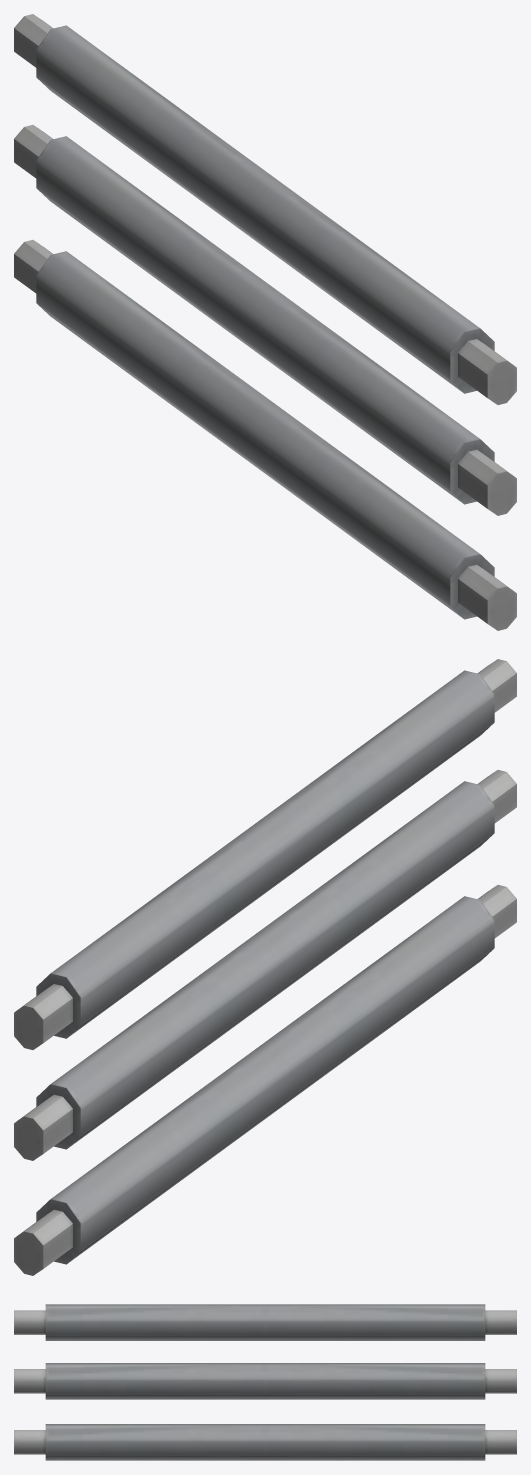
The model's file is Part - Fence 05-CBk5ll14.glb.
The picture shows the model from 3 angles, top to bottom: view 1: azimuth 30°, elevation 25°; view 2: azimuth 150°, elevation 25°; view 3: azimuth 270°, elevation 25°; orthographic projection. The views are drawn at different scales.
Visible parts, largest first — view 1: Fence_05; view 2: Fence_05; view 3: Fence_05.
Boxes of the visible parts, x1,y1,x2,y2 form: Fence_05: (14,14,516,630); Fence_05: (14,659,516,1275); Fence_05: (14,1304,516,1460).
Bounding box in the file's own units: 0.0905 × 0.56 × 1.67.
1 material, 1 textured.
